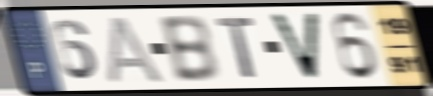6: (330, 10, 380, 82), (51, 18, 100, 83)
A: (107, 14, 167, 85)
B: (156, 13, 222, 84)
T: (214, 15, 259, 80)
V: (266, 12, 322, 83)
